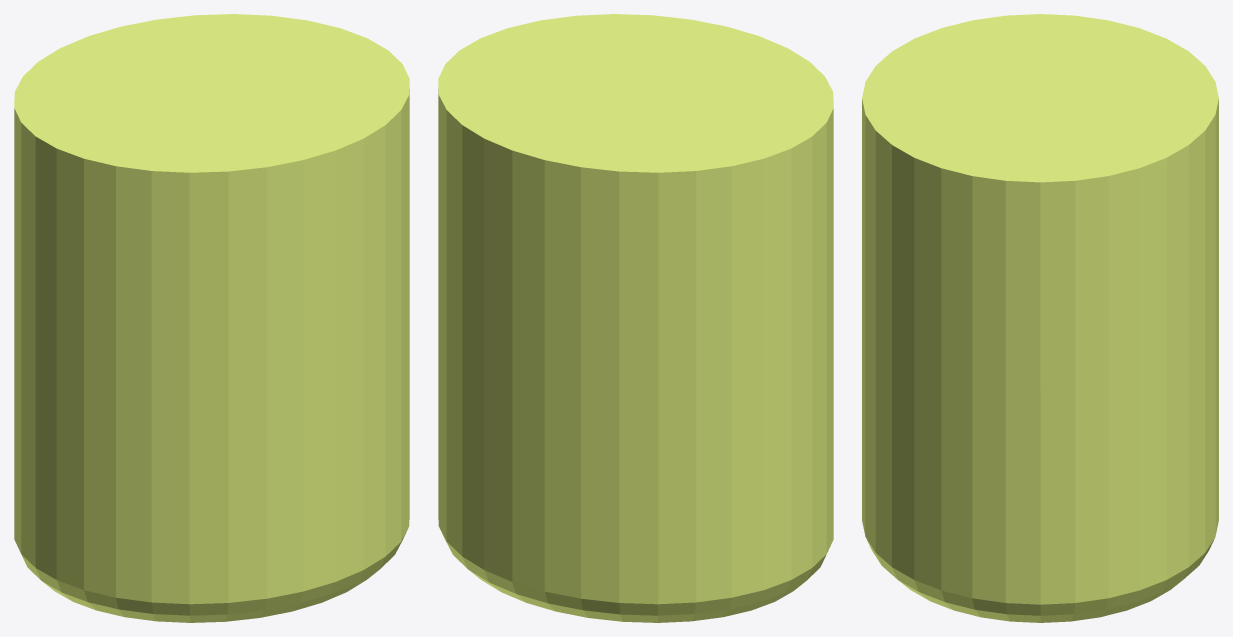
The model's file is Robot_Flashlight.fbx.
3 renders of one model, left to right at view 1: azimuth 30°, elevation 25°; view 2: azimuth 150°, elevation 25°; view 3: azimuth 270°, elevation 25°, orthographic. The views are drawn at different scales.
Visible parts, largest first — view 1: Lampe; view 2: Lampe; view 3: Lampe.
Boxes of the visible parts, x1,y1,x2,y2 form: Lampe: (14,14,409,622); Lampe: (438,14,833,622); Lampe: (862,14,1218,622).
Bounding box in the file's own units: 25.43 × 32.51 × 22.77.
